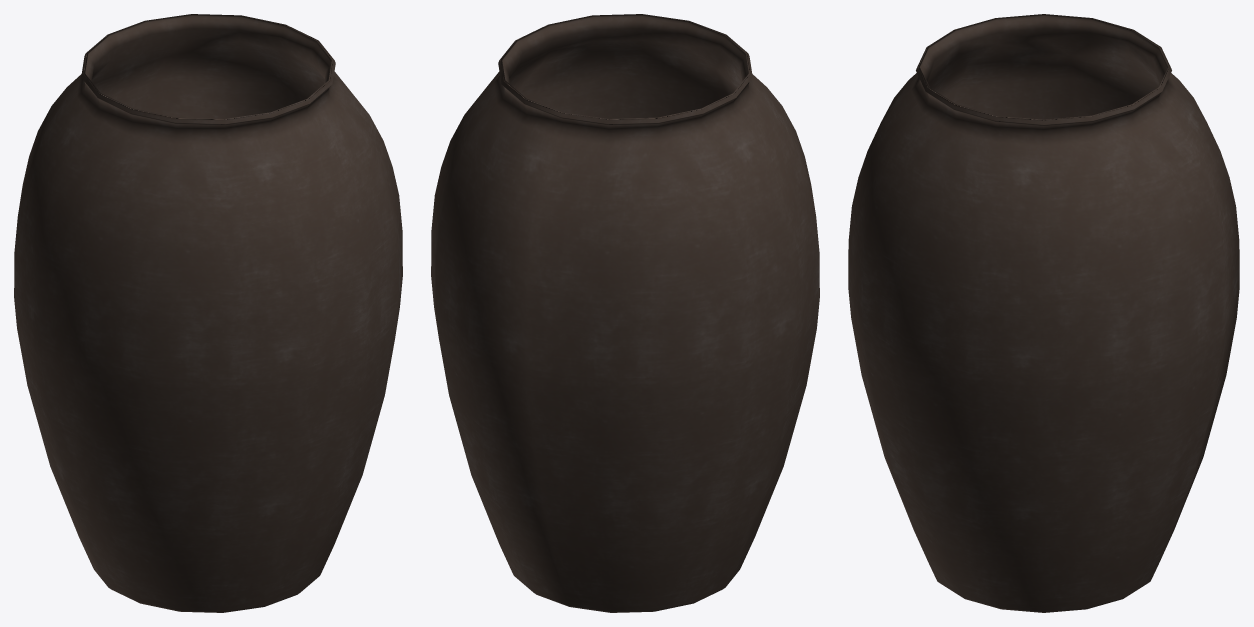
Rendered from SM_Mado_PotteryC.fbx.
3 renders of one model, left to right at view 1: azimuth 30°, elevation 25°; view 2: azimuth 150°, elevation 25°; view 3: azimuth 270°, elevation 25°, orthographic.
Parts seen in each view (by area): view 1: SM_Mado_PotteryC; view 2: SM_Mado_PotteryC; view 3: SM_Mado_PotteryC.
Boxes of the visible parts, <box> form: SM_Mado_PotteryC: <box>14,14,402,612</box>; SM_Mado_PotteryC: <box>431,14,819,612</box>; SM_Mado_PotteryC: <box>848,14,1239,612</box>.
Size of the model in its own units: 18.83 by 18.83 by 26.55.
Materials: 1 (1 with a texture image).
